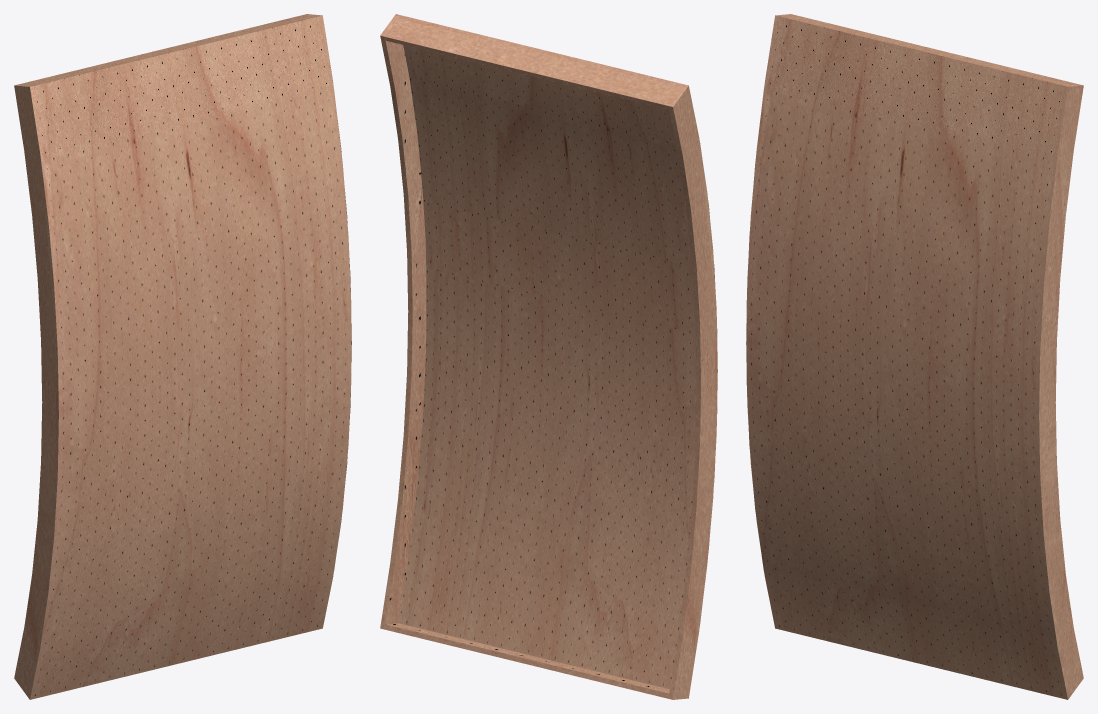
Rendered from MicroCloud.glb.
3 views of the same model, side by side, from view 1: azimuth 30°, elevation 25°; view 2: azimuth 150°, elevation 25°; view 3: azimuth 330°, elevation 25° (orthographic).
Parts seen in each view (by area): view 1: MicroCloud v1; view 2: MicroCloud v1; view 3: MicroCloud v1.
Boxes of the visible parts, <box> form: MicroCloud v1: <box>14,14,351,699</box>; MicroCloud v1: <box>380,14,717,699</box>; MicroCloud v1: <box>746,14,1083,699</box>.
Bounding box in the file's own units: 48 × 96 × 12.72.
Materials: 1 (1 with a texture image).
